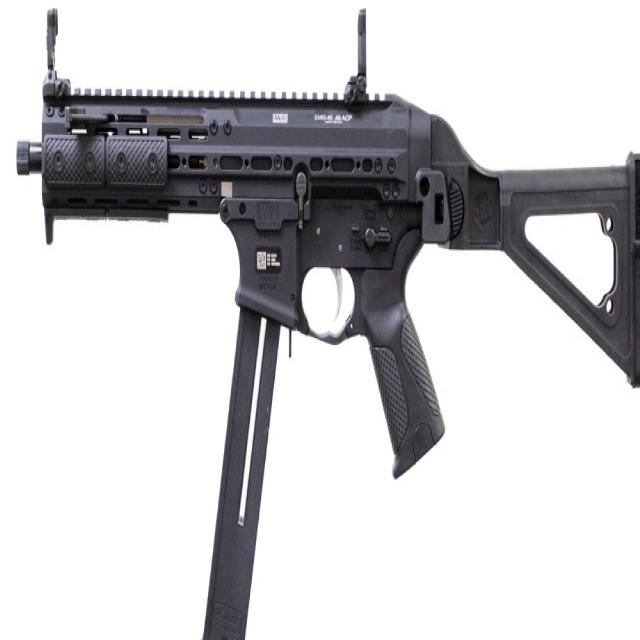Weapon: (16, 10, 640, 640)
